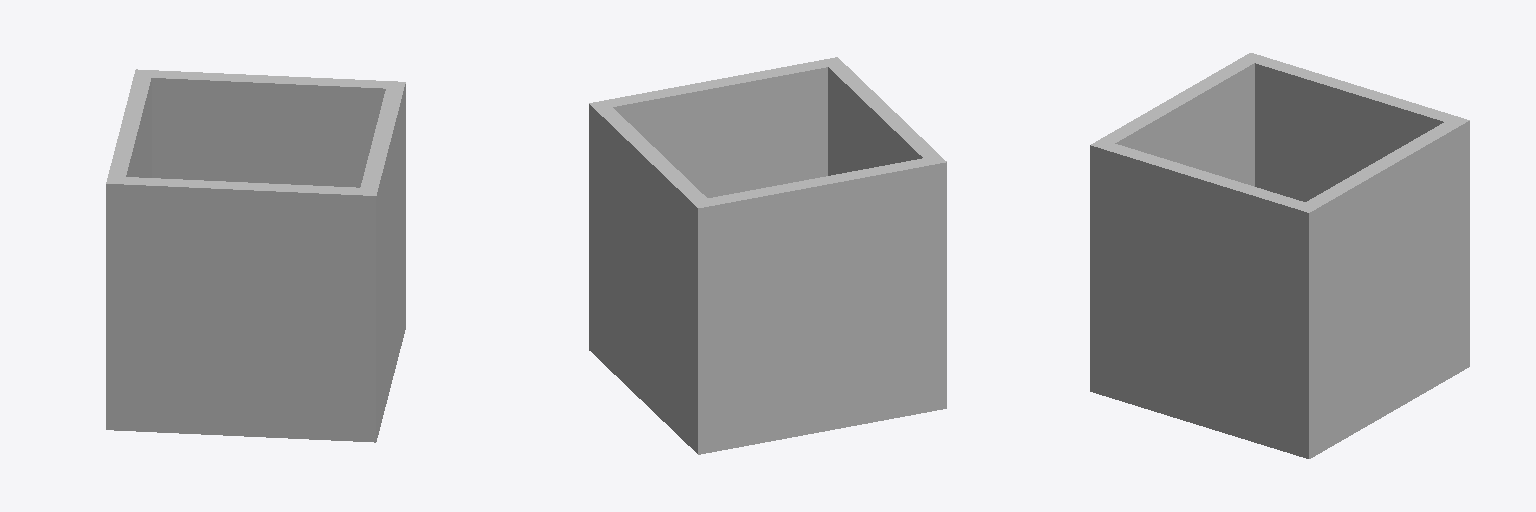
File: mt5_present_base.obj
The picture shows the model from 3 angles: view 1: azimuth 30°, elevation 25°; view 2: azimuth 150°, elevation 25°; view 3: azimuth 270°, elevation 25°; orthographic projection.
Parts seen in each view (by area): view 1: Cube.001; view 2: Cube.001; view 3: Cube.001.
Part boxes in pixels (left/top/right/bottom): Cube.001: left=106, top=69, right=405, bottom=442; Cube.001: left=589, top=57, right=946, bottom=454; Cube.001: left=1090, top=53, right=1469, bottom=458.
Bounding box in the file's own units: 0.7809 × 0.5587 × 0.7809.